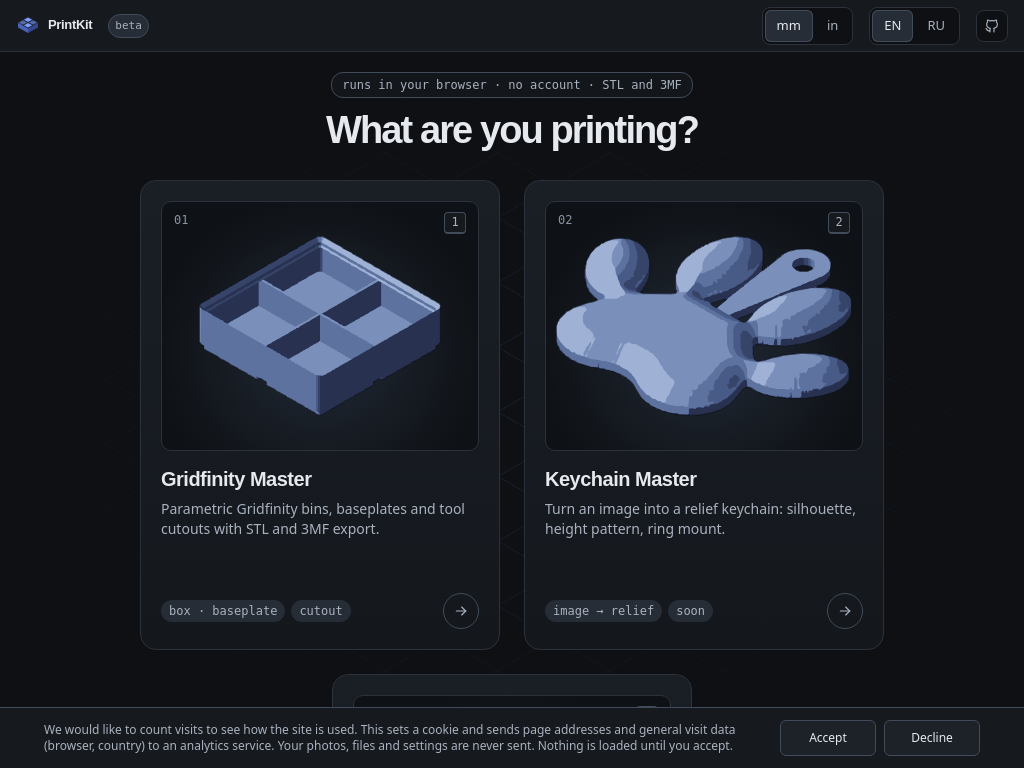
идентичность сайта: ссылка, мотивация, подвал (2.1–2.3) › мотивация только на корневой странице; смена языка меняет текст
The width and height of the screenshot is (1024, 768).
Click the button "RU" at (936, 26), box top-left (915, 10), bottom-right (957, 42)
(page scrolled)
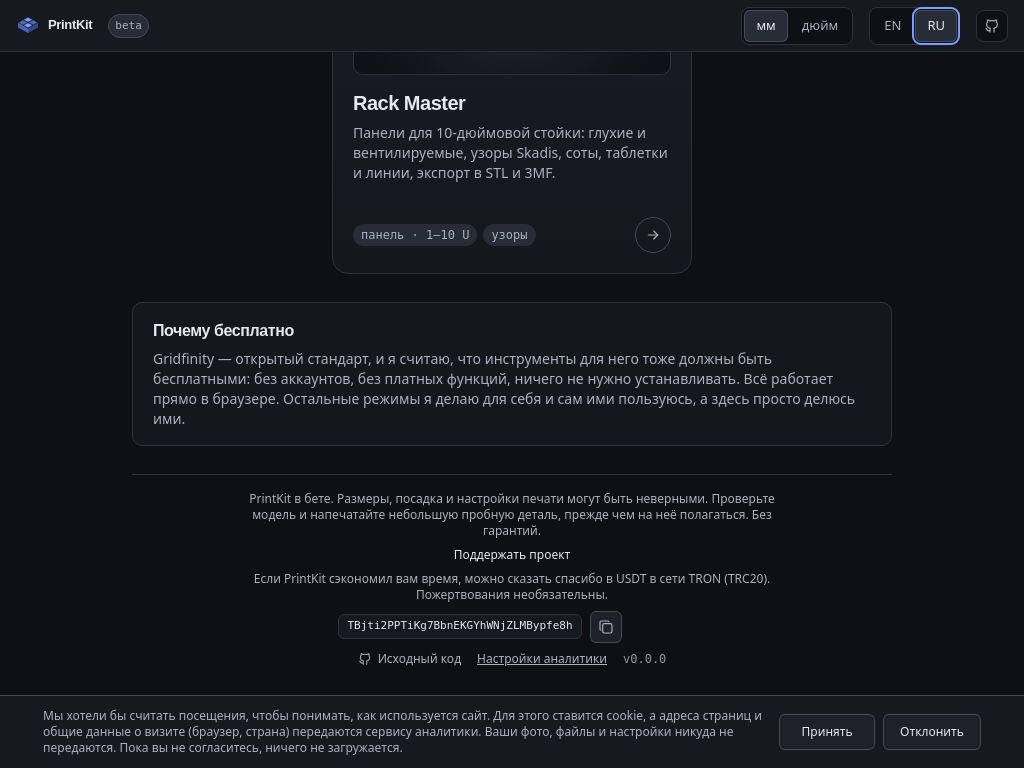
Result: the element "Почему бесплатно" shows "открытый стандарт" at top-left (153, 349), bottom-right (855, 428)
